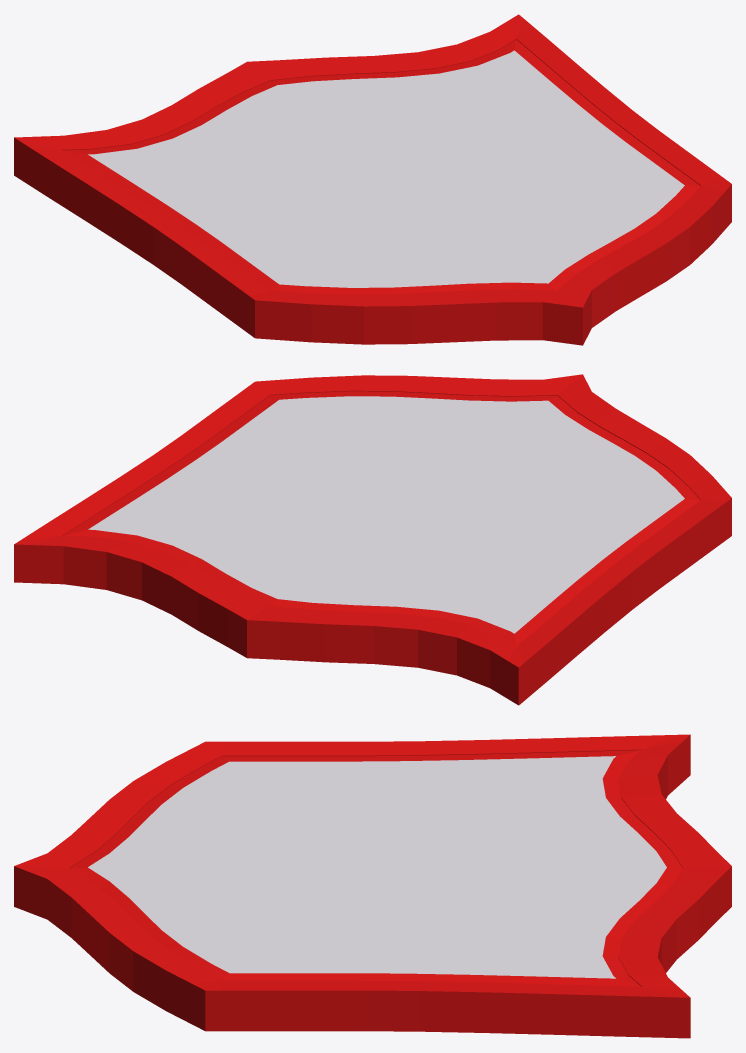
Rendered from ShieldPowerUp.fbx.
The picture shows the model from 3 angles, top to bottom: view 1: azimuth 30°, elevation 25°; view 2: azimuth 150°, elevation 25°; view 3: azimuth 270°, elevation 25°; orthographic projection. The views are drawn at different scales.
Visible parts, largest first — view 1: Cube; view 2: Cube; view 3: Cube.
Part boxes in pixels (bbox=[...]): Cube: bbox=[14, 14, 731, 345]; Cube: bbox=[14, 374, 731, 705]; Cube: bbox=[14, 734, 731, 1038].
Bounding box in the file's own units: 73.57 × 5.3 × 84.78.
